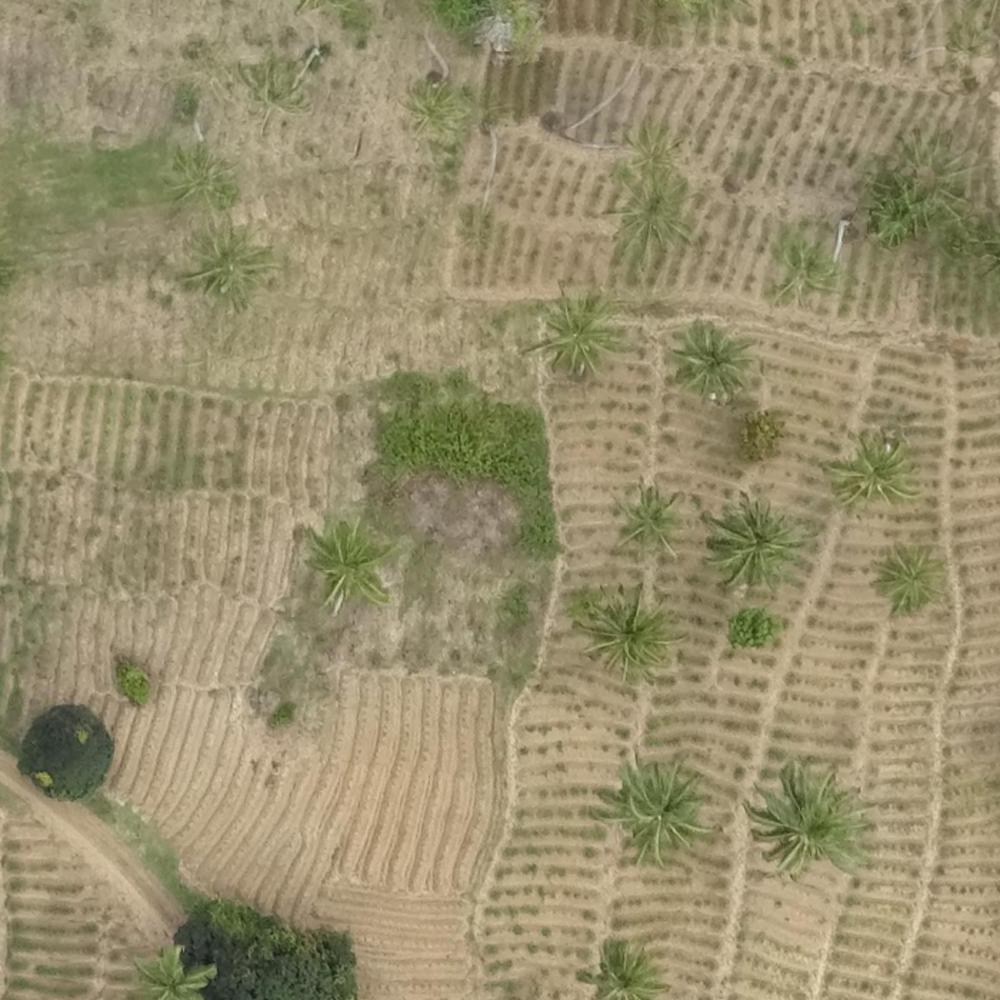Palm: (753, 766, 862, 871), (600, 754, 704, 856), (579, 584, 674, 680), (708, 498, 797, 589), (304, 516, 391, 602), (538, 295, 616, 377), (672, 318, 750, 400), (830, 434, 917, 507), (614, 485, 687, 558), (582, 939, 667, 998), (872, 543, 944, 611)
